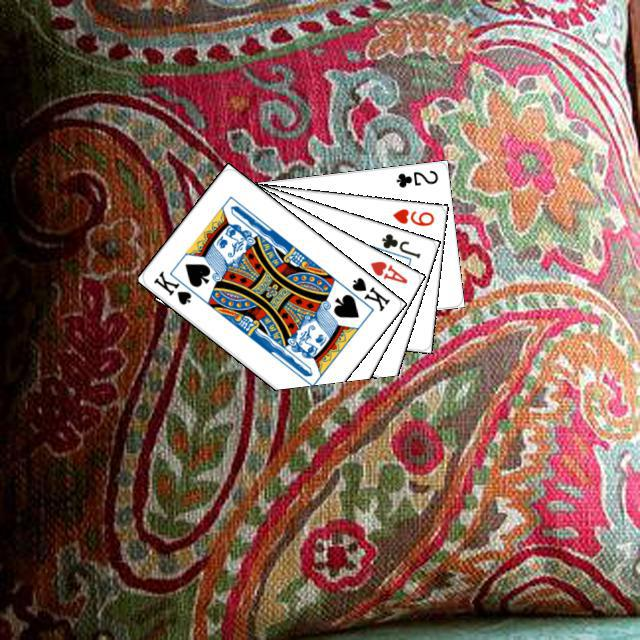2c: (391, 165, 439, 189)
9h: (387, 204, 436, 228)
Ah: (365, 256, 409, 285)
Jc: (377, 228, 422, 260)
Ks: (149, 266, 201, 307), (347, 272, 391, 313)
